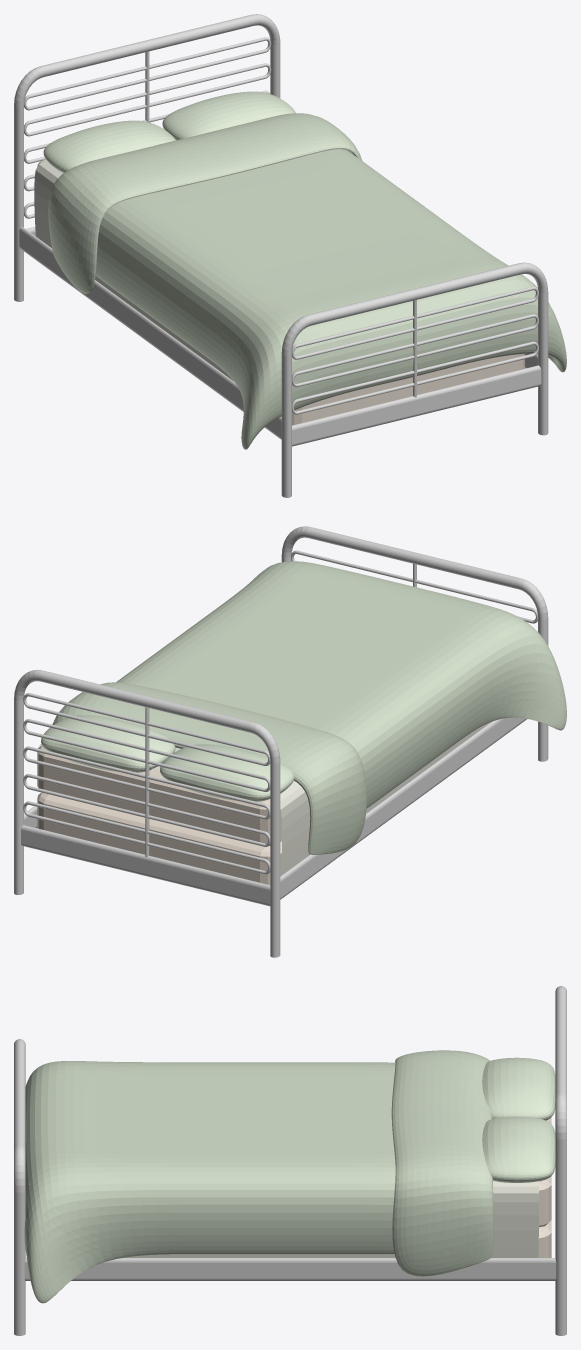
The model's file is sh3d_blendswap_bed_002.glb.
3 renders of one model, top to bottom at view 1: azimuth 30°, elevation 25°; view 2: azimuth 150°, elevation 25°; view 3: azimuth 270°, elevation 25°, orthographic.
Visible parts, largest first — view 1: couch, structure, pillow, matress, sheet; view 2: couch, structure, matress, pillow, sheet; view 3: couch, structure, pillow, sheet, matress.
Part boxes in pixels (x1,y1,x2,y2): couch: (48,113,566,449); structure: (14,14,548,497); pillow: (43,91,295,172); matress: (37,158,524,425); sheet: (34,160,231,378); couch: (52,561,566,854); structure: (14,526,548,957); matress: (37,722,490,884); pillow: (41,715,294,801); sheet: (39,728,478,875); couch: (24,1050,493,1303); structure: (14,986,566,1335); pillow: (482,1057,555,1182); sheet: (136,1181,538,1257); matress: (29,1077,551,1257).
Size of the model in its own units: 1.41 by 0.9546 by 2.08.
